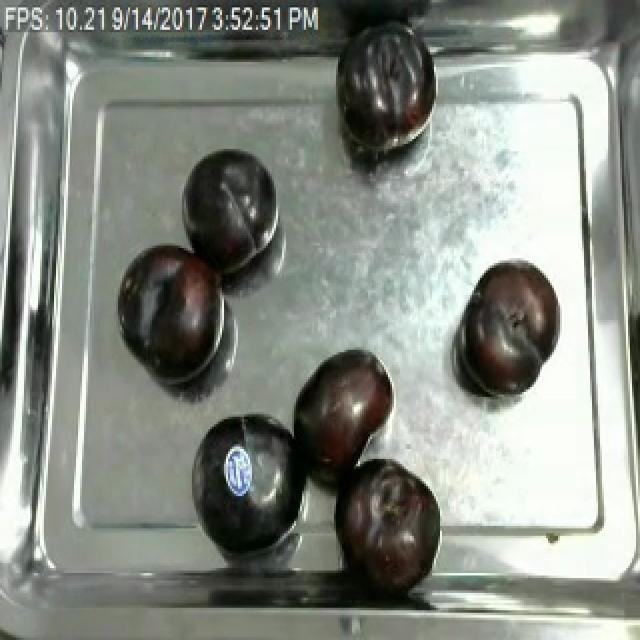Fruit: (186, 402, 312, 558), (330, 12, 442, 162), (334, 449, 446, 598), (284, 340, 400, 476), (122, 238, 226, 385), (458, 256, 564, 400), (178, 144, 280, 280)
